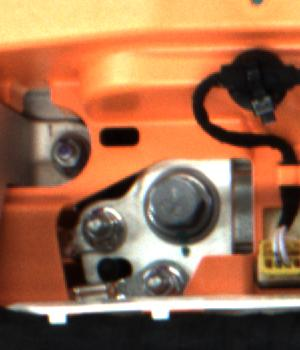nut_b: (144, 168, 220, 238)
